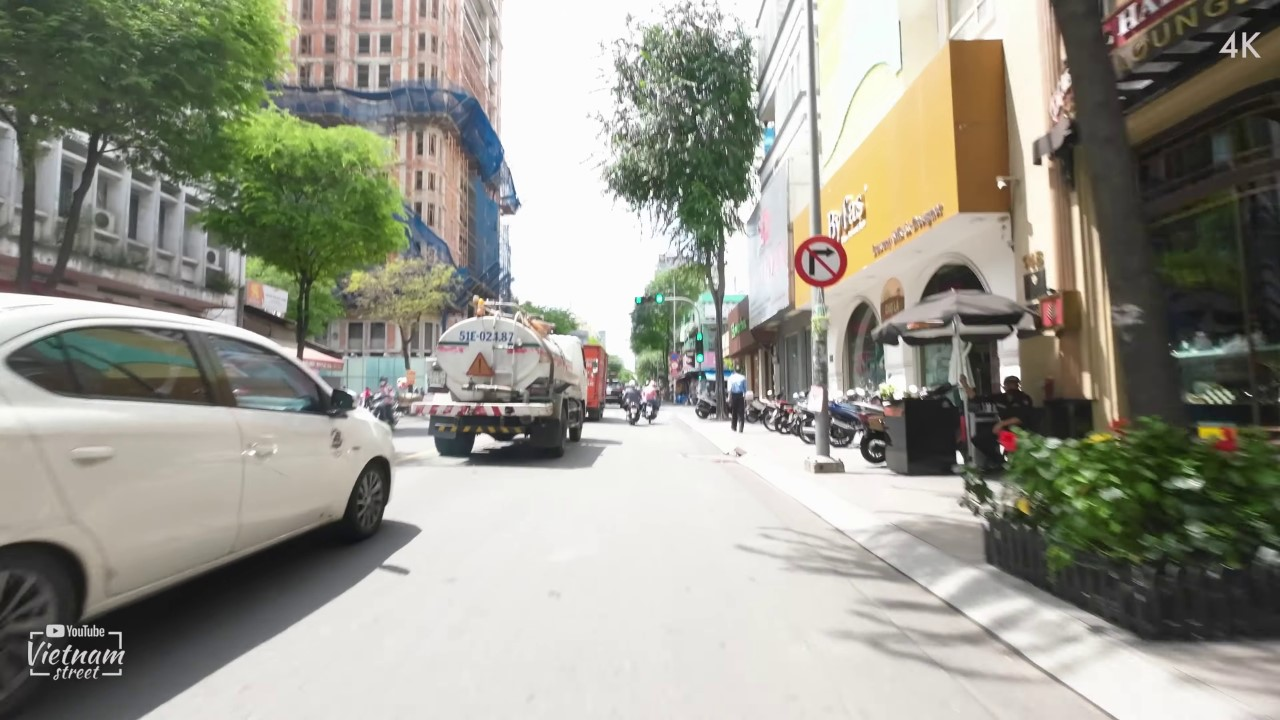cam_re_phai: (791, 231, 847, 291)
